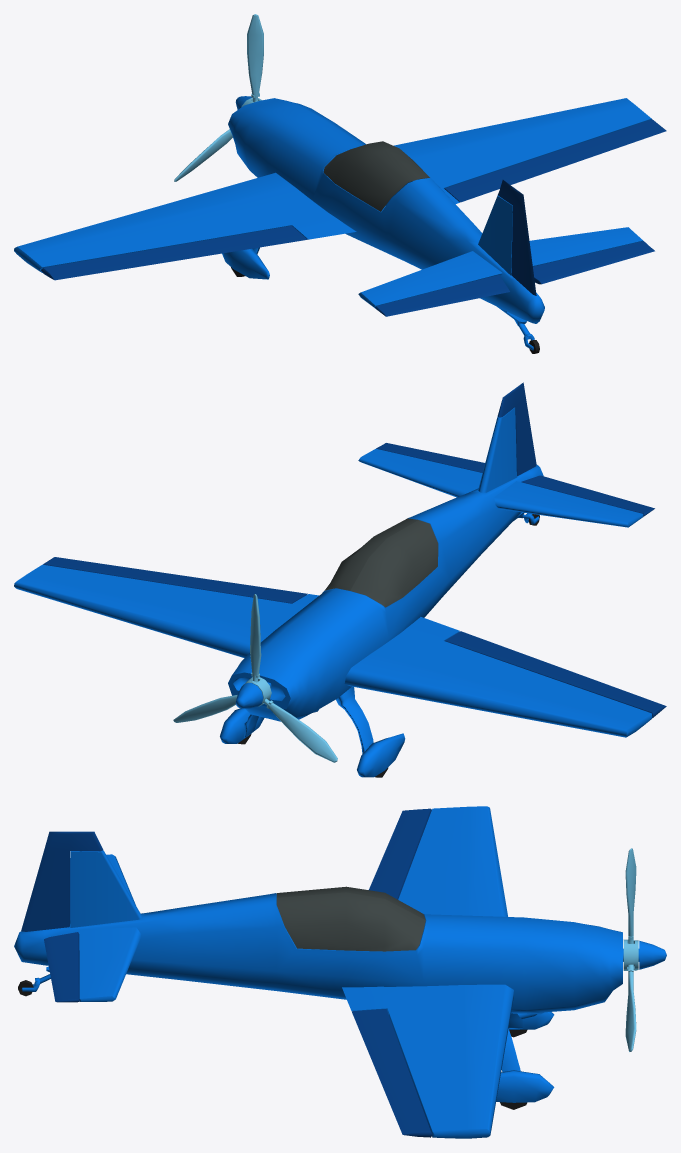
File: aircraft.fbx
The picture shows the model from 3 angles, top to bottom: view 1: azimuth 30°, elevation 25°; view 2: azimuth 150°, elevation 25°; view 3: azimuth 270°, elevation 25°; orthographic projection. The views are drawn at different scales.
Parts seen in each view (by area): view 1: aircraftBody_ml, aircraftCover_ml, aircraftLFlap_ml, aircraftRFlap_ml, aircraftRearLFlap_ml, aircraftRearRFlap_ml, aircraftTailFlap_ml, aircraftPropeller_ml; view 2: aircraftBody_ml, aircraftCover_ml, aircraftLFlap_ml, aircraftPropeller_ml, aircraftRFlap_ml, aircraftTailFlap_ml, aircraftRearLFlap_ml, aircraftRearRFlap_ml; view 3: aircraftBody_ml, aircraftCover_ml, aircraftRFlap_ml, aircraftTailFlap_ml, aircraftLFlap_ml, aircraftRearRFlap_ml, aircraftPropeller_ml.
Boxes of the visible parts, <box> form: aircraftBody_ml: <box>14,96,651,350</box>; aircraftCover_ml: <box>323,141,429,211</box>; aircraftLFlap_ml: <box>41,225,307,280</box>; aircraftRFlap_ml: <box>444,119,666,202</box>; aircraftRearLFlap_ml: <box>375,275,509,316</box>; aircraftRearRFlap_ml: <box>533,241,654,284</box>; aircraftTailFlap_ml: <box>498,180,536,295</box>; aircraftPropeller_ml: <box>174,14,263,181</box>; aircraftBody_ml: <box>14,407,652,777</box>; aircraftCover_ml: <box>324,518,438,607</box>; aircraftLFlap_ml: <box>445,631,666,718</box>; aircraftPropeller_ml: <box>173,594,337,762</box>; aircraftRFlap_ml: <box>43,557,307,603</box>; aircraftTailFlap_ml: <box>497,382,536,476</box>; aircraftRearLFlap_ml: <box>521,475,654,516</box>; aircraftRearRFlap_ml: <box>376,443,484,472</box>; aircraftBody_ml: <box>14,806,666,1138</box>; aircraftCover_ml: <box>276,886,425,951</box>; aircraftRFlap_ml: <box>351,1009,432,1137</box>; aircraftTailFlap_ml: <box>21,831,103,931</box>; aircraftLFlap_ml: <box>369,808,431,899</box>; aircraftRearRFlap_ml: <box>44,932,80,1002</box>; aircraftPropeller_ml: <box>623,848,638,1051</box>.
Size of the model in its own units: 952 by 328 by 810.
